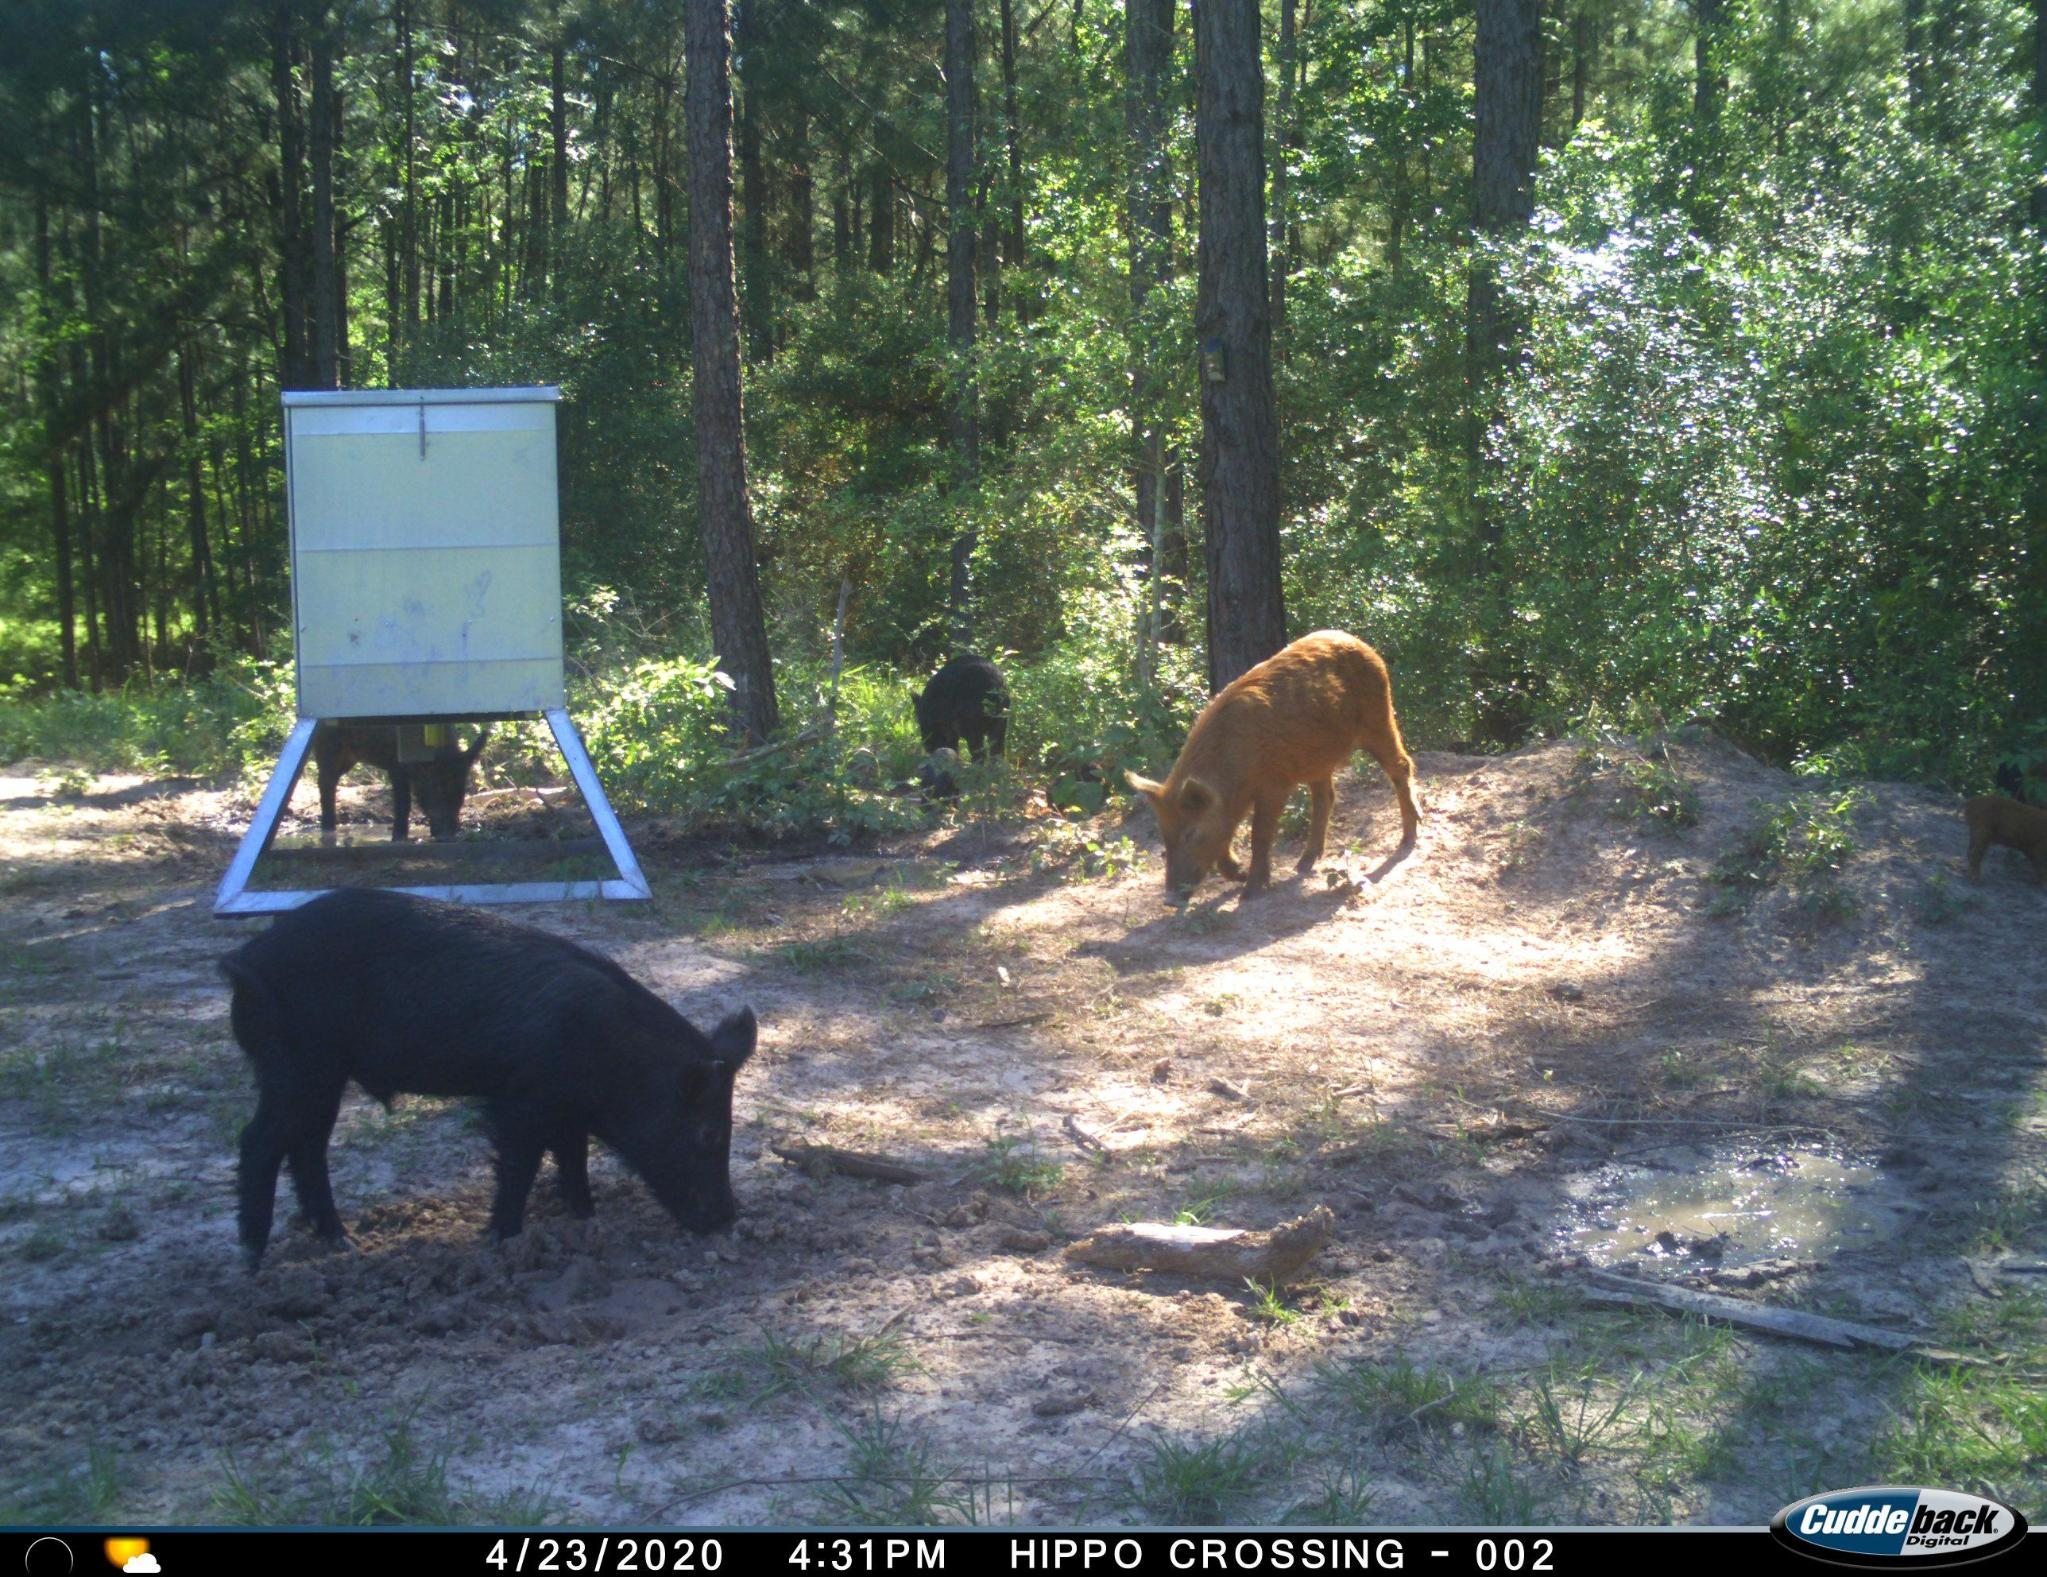Hog: (212, 871, 773, 1279), (1111, 628, 1429, 914), (311, 717, 490, 842), (903, 654, 1019, 772), (1961, 774, 2045, 881)
